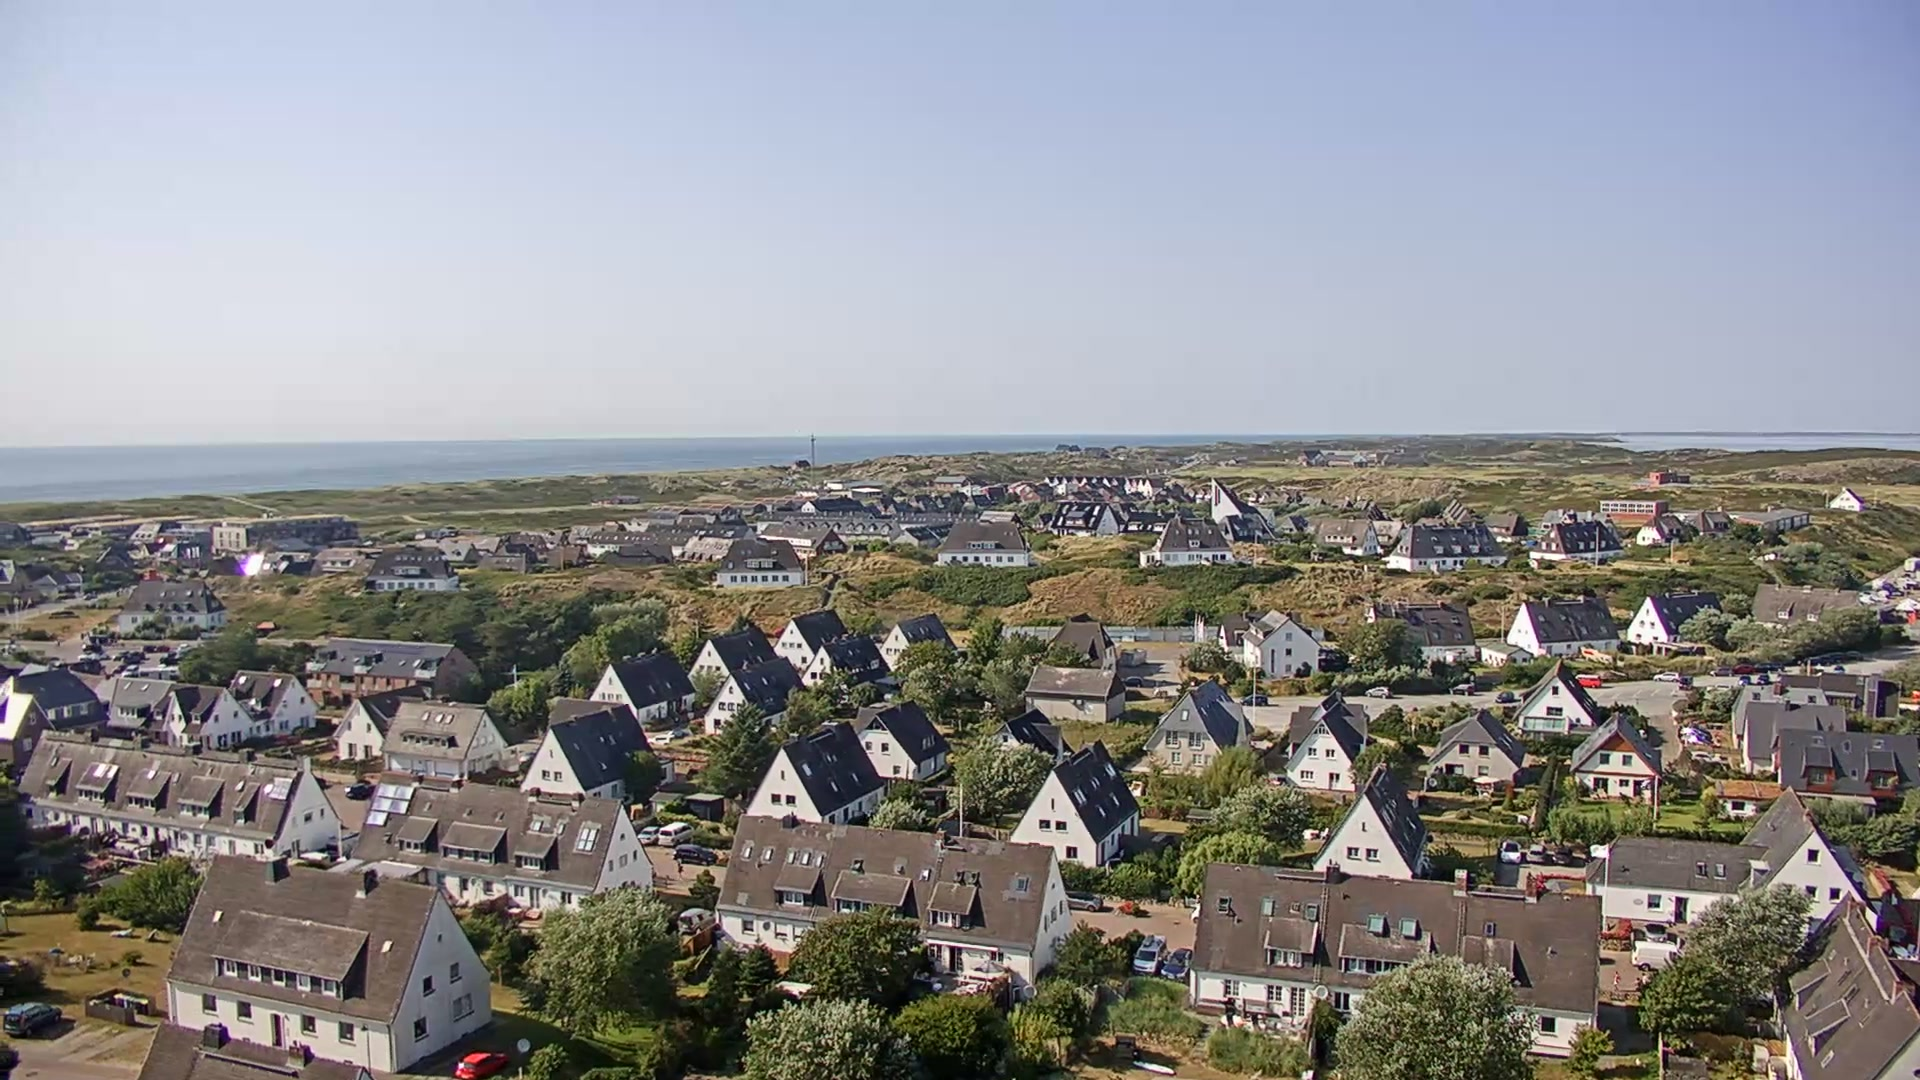human: (1634, 975, 1642, 997), (1613, 970, 1621, 990)
land: (3, 999, 64, 1038), (1628, 939, 1687, 972), (455, 1048, 510, 1079), (1130, 932, 1166, 977), (1157, 944, 1193, 982), (675, 906, 716, 934), (658, 820, 697, 848), (1063, 888, 1104, 912), (672, 844, 718, 867), (632, 825, 662, 846), (1640, 922, 1670, 941), (1499, 840, 1523, 864), (345, 781, 376, 799), (1573, 671, 1603, 689), (1364, 685, 1394, 699), (1551, 846, 1574, 865), (1239, 692, 1269, 707), (1526, 844, 1547, 864), (1650, 669, 1679, 682), (1119, 674, 1145, 688), (1449, 683, 1476, 696), (119, 649, 144, 662), (646, 733, 671, 747), (1494, 690, 1516, 704), (1706, 664, 1733, 677), (1753, 661, 1779, 672), (77, 649, 100, 662), (1690, 750, 1716, 762), (1730, 662, 1754, 674), (106, 649, 130, 660), (1807, 656, 1832, 666), (121, 663, 139, 676), (1679, 677, 1693, 690), (1737, 674, 1752, 686), (152, 642, 169, 653), (1846, 650, 1863, 661), (1754, 672, 1769, 685), (1832, 653, 1845, 662)
